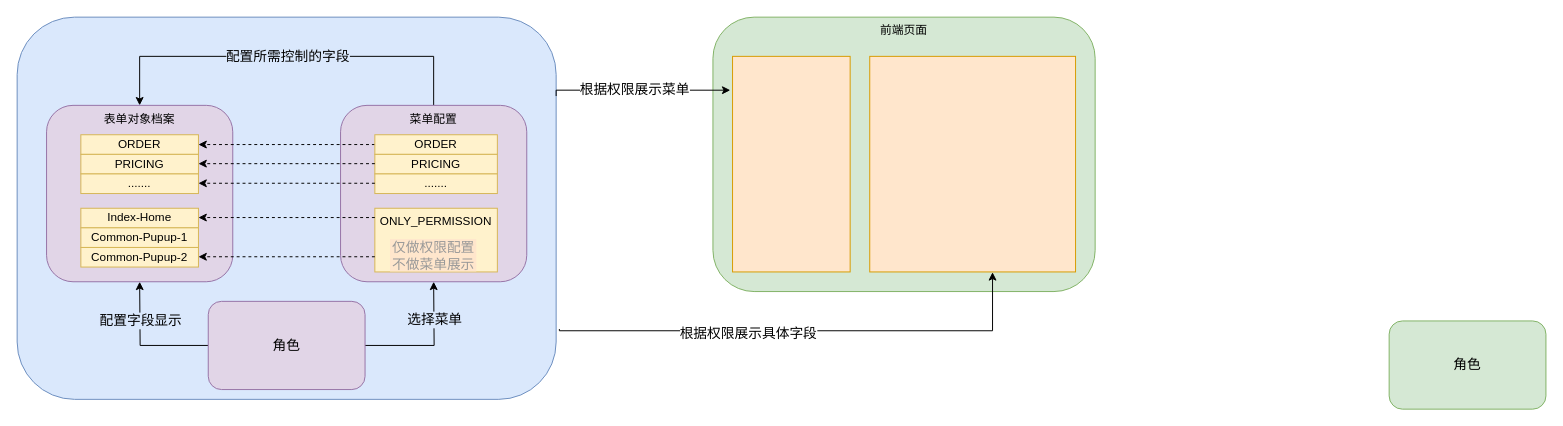
Image size: 1563x426. Some labels were removed from this diagram. The shapes that lost their labels are listed below. From the top down, each one's centre as x and y in pixels, then its label:
At (791,163): "左侧菜单".
At (972,163): "列表+表单+弹窗".
